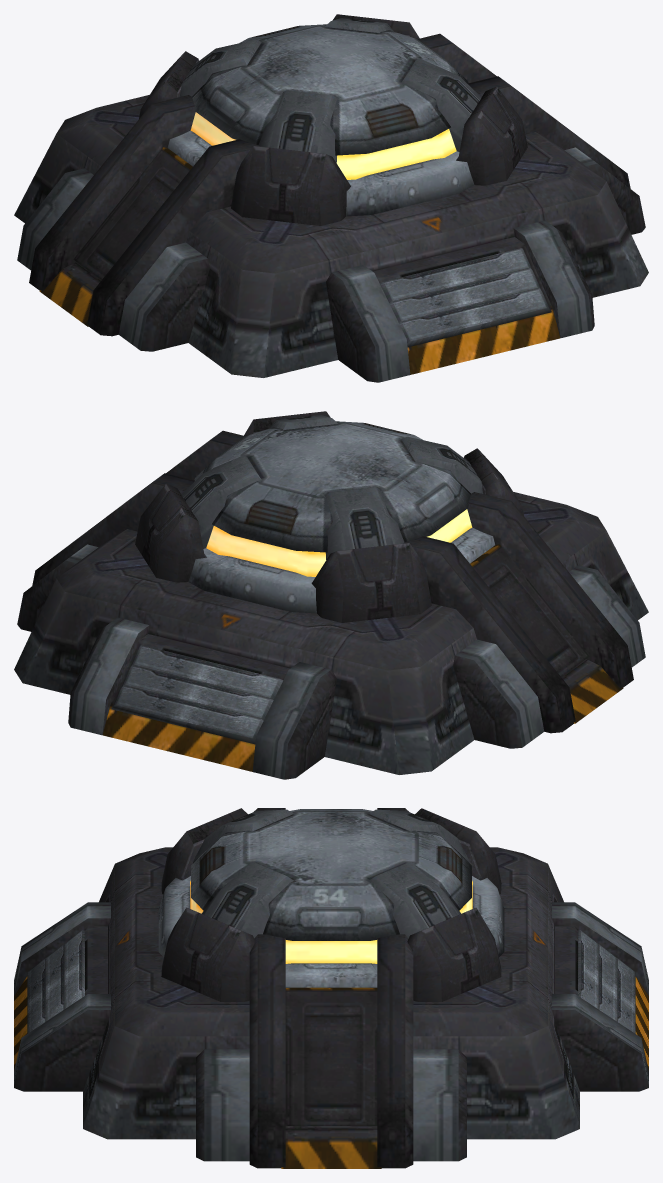
The model's file is BunkerEx1.glb.
3 views of the same model, one above another, from view 1: azimuth 30°, elevation 25°; view 2: azimuth 150°, elevation 25°; view 3: azimuth 270°, elevation 25° (orthographic). The views are drawn at different scales.
Parts seen in each view (by area): view 1: Mesh, Bldg_Terran_Bunker_Top; view 2: Mesh, Bldg_Terran_Bunker_Top; view 3: Mesh, Bldg_Terran_Bunker_Top.
Boxes of the visible parts, x1,y1,x2,y2 form: Mesh: (14, 14, 648, 382); Bldg_Terran_Bunker_Top: (168, 18, 481, 216); Mesh: (14, 411, 648, 779); Bldg_Terran_Bunker_Top: (181, 415, 494, 613); Mesh: (14, 808, 648, 1168); Bldg_Terran_Bunker_Top: (158, 809, 504, 987).
Bounding box in the file's own units: 2.56 × 0.865 × 2.55.
Materials: 2 (2 with a texture image).
